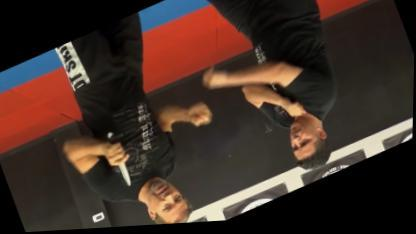knife: (97, 127, 141, 196)
